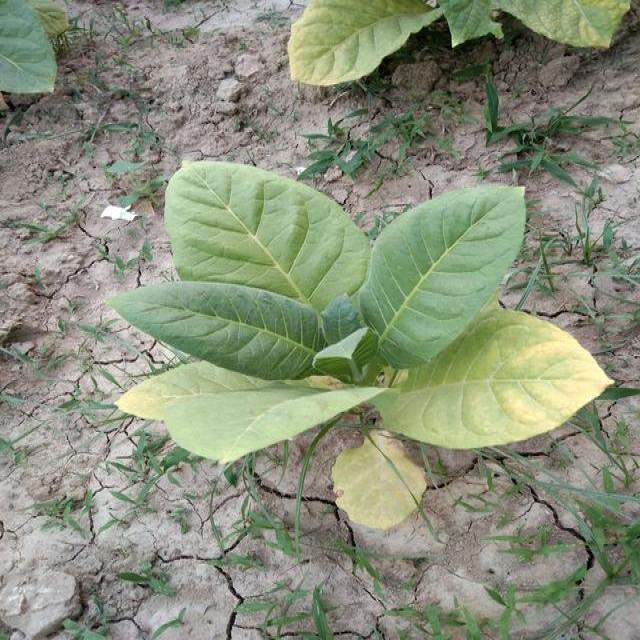crop: (140, 175, 591, 530), (281, 0, 620, 58)
